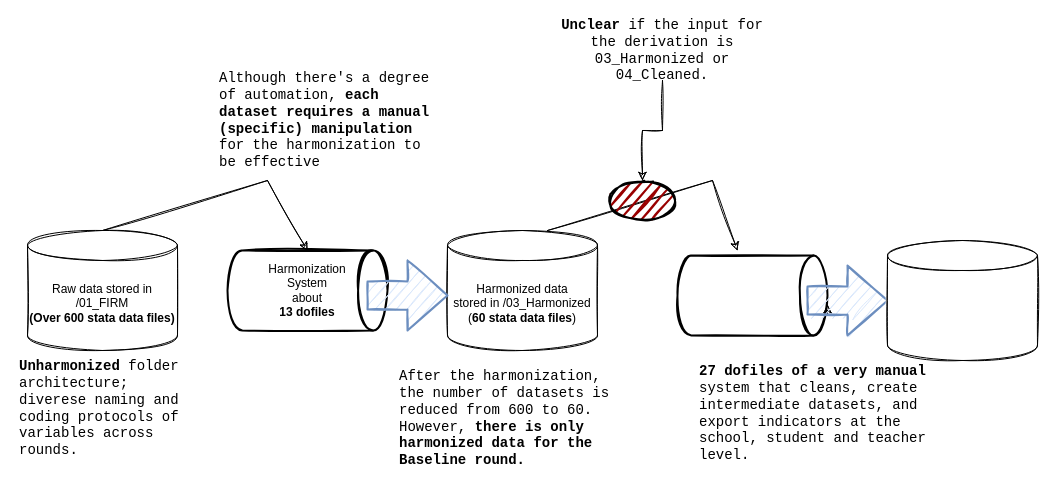
Image size: 1055x504. Some labels were removed from this diagram. The centre of each missing label's shape, as x and y in pixels:
"Derivation System about 27 dofiles" goes at pixel 752 295.
"Derived data stored in 05_Derived 5 files" goes at pixel 962 300.
